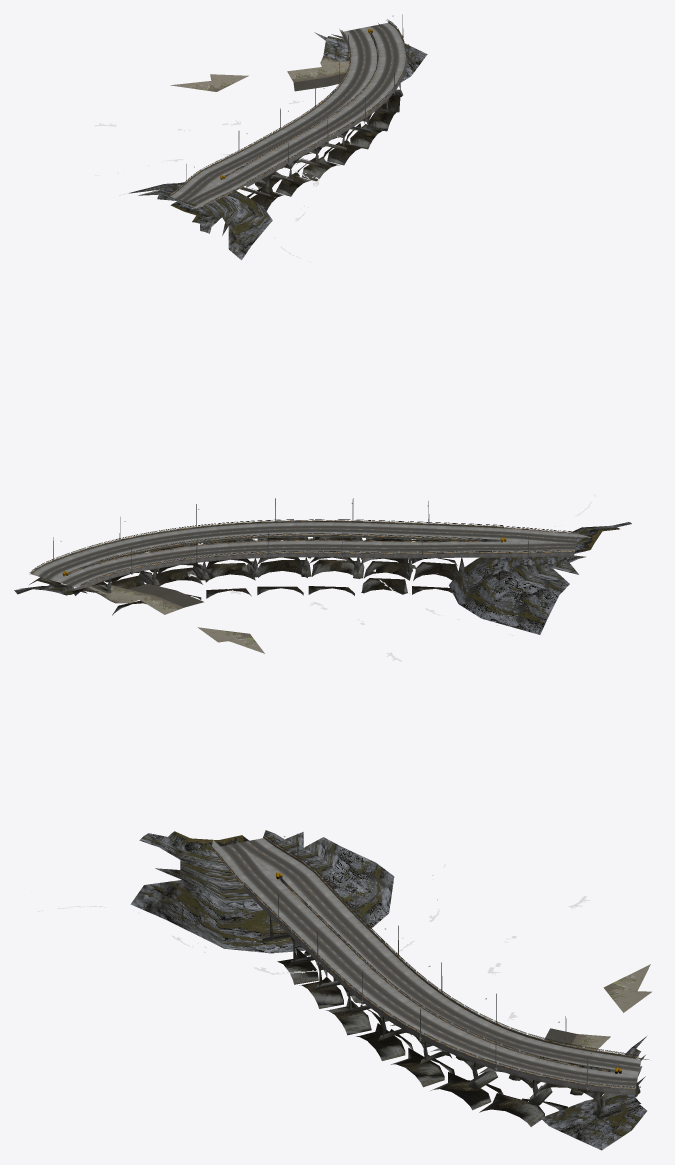
The model's file is world_camden_16_0.gltf.
3 views of the same model, one above another, from view 1: azimuth 30°, elevation 25°; view 2: azimuth 150°, elevation 25°; view 3: azimuth 270°, elevation 25° (orthographic). The views are drawn at different scales.
Size of the model in its own units: 312 by 78.62 by 272.
23 materials, 23 textured.
